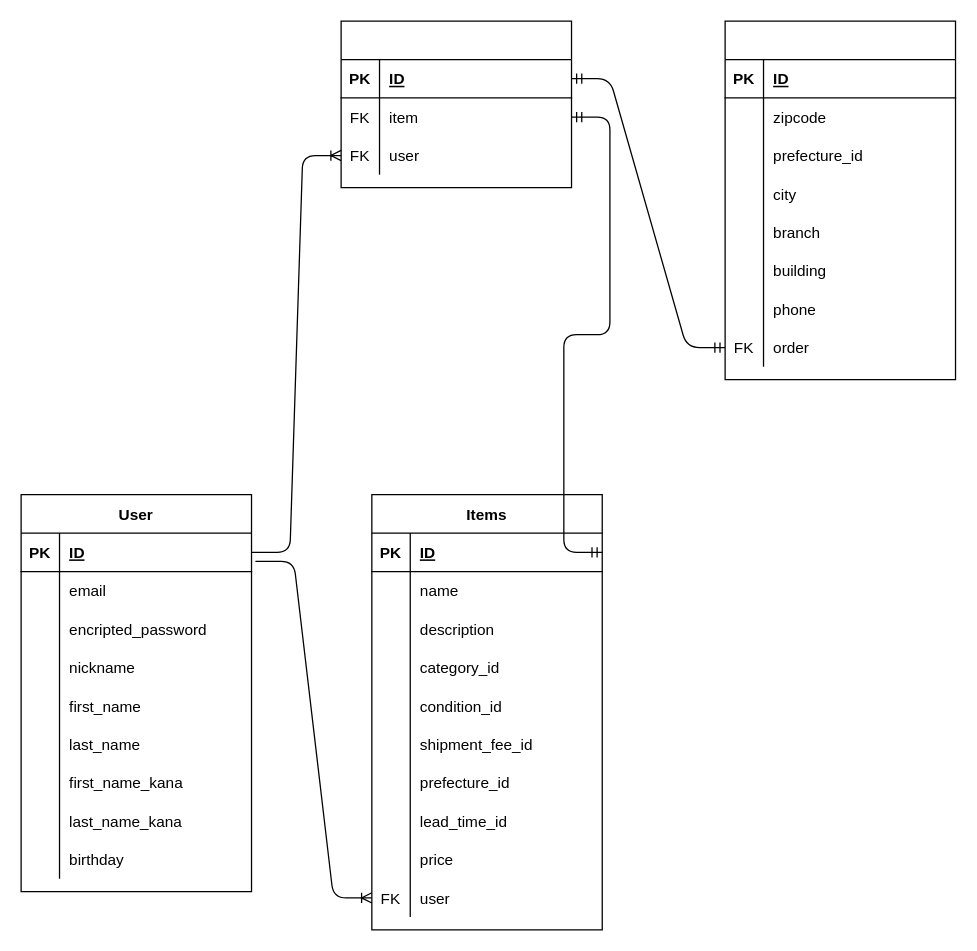
Image size: 977x951. Some labels were removed from this diagram. The shapes that lost their labels are listed below. From the top down, each one's box as (x1, y1, x2, y2) in pixels, then its label:
(340, 20, 572, 188): Orders
(724, 20, 956, 380): Shipment
